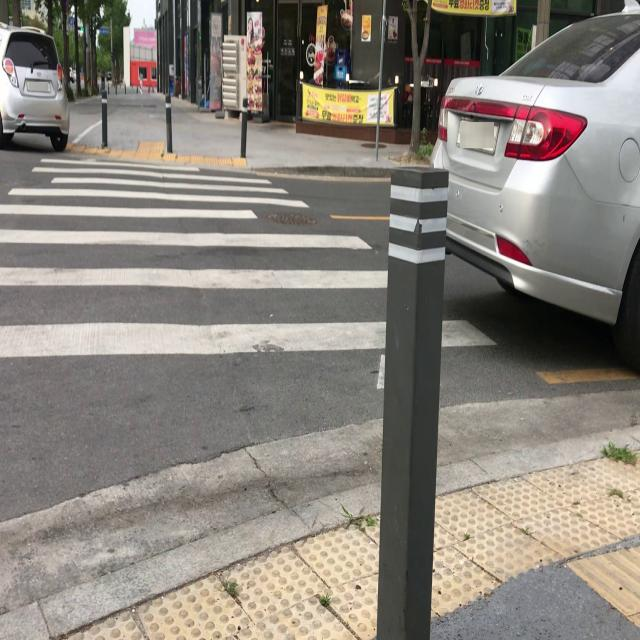횡단보도: (0, 153, 500, 396)
